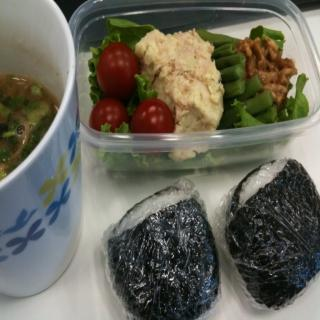tomato: (94, 33, 140, 90), (130, 96, 174, 132), (86, 97, 129, 131)
